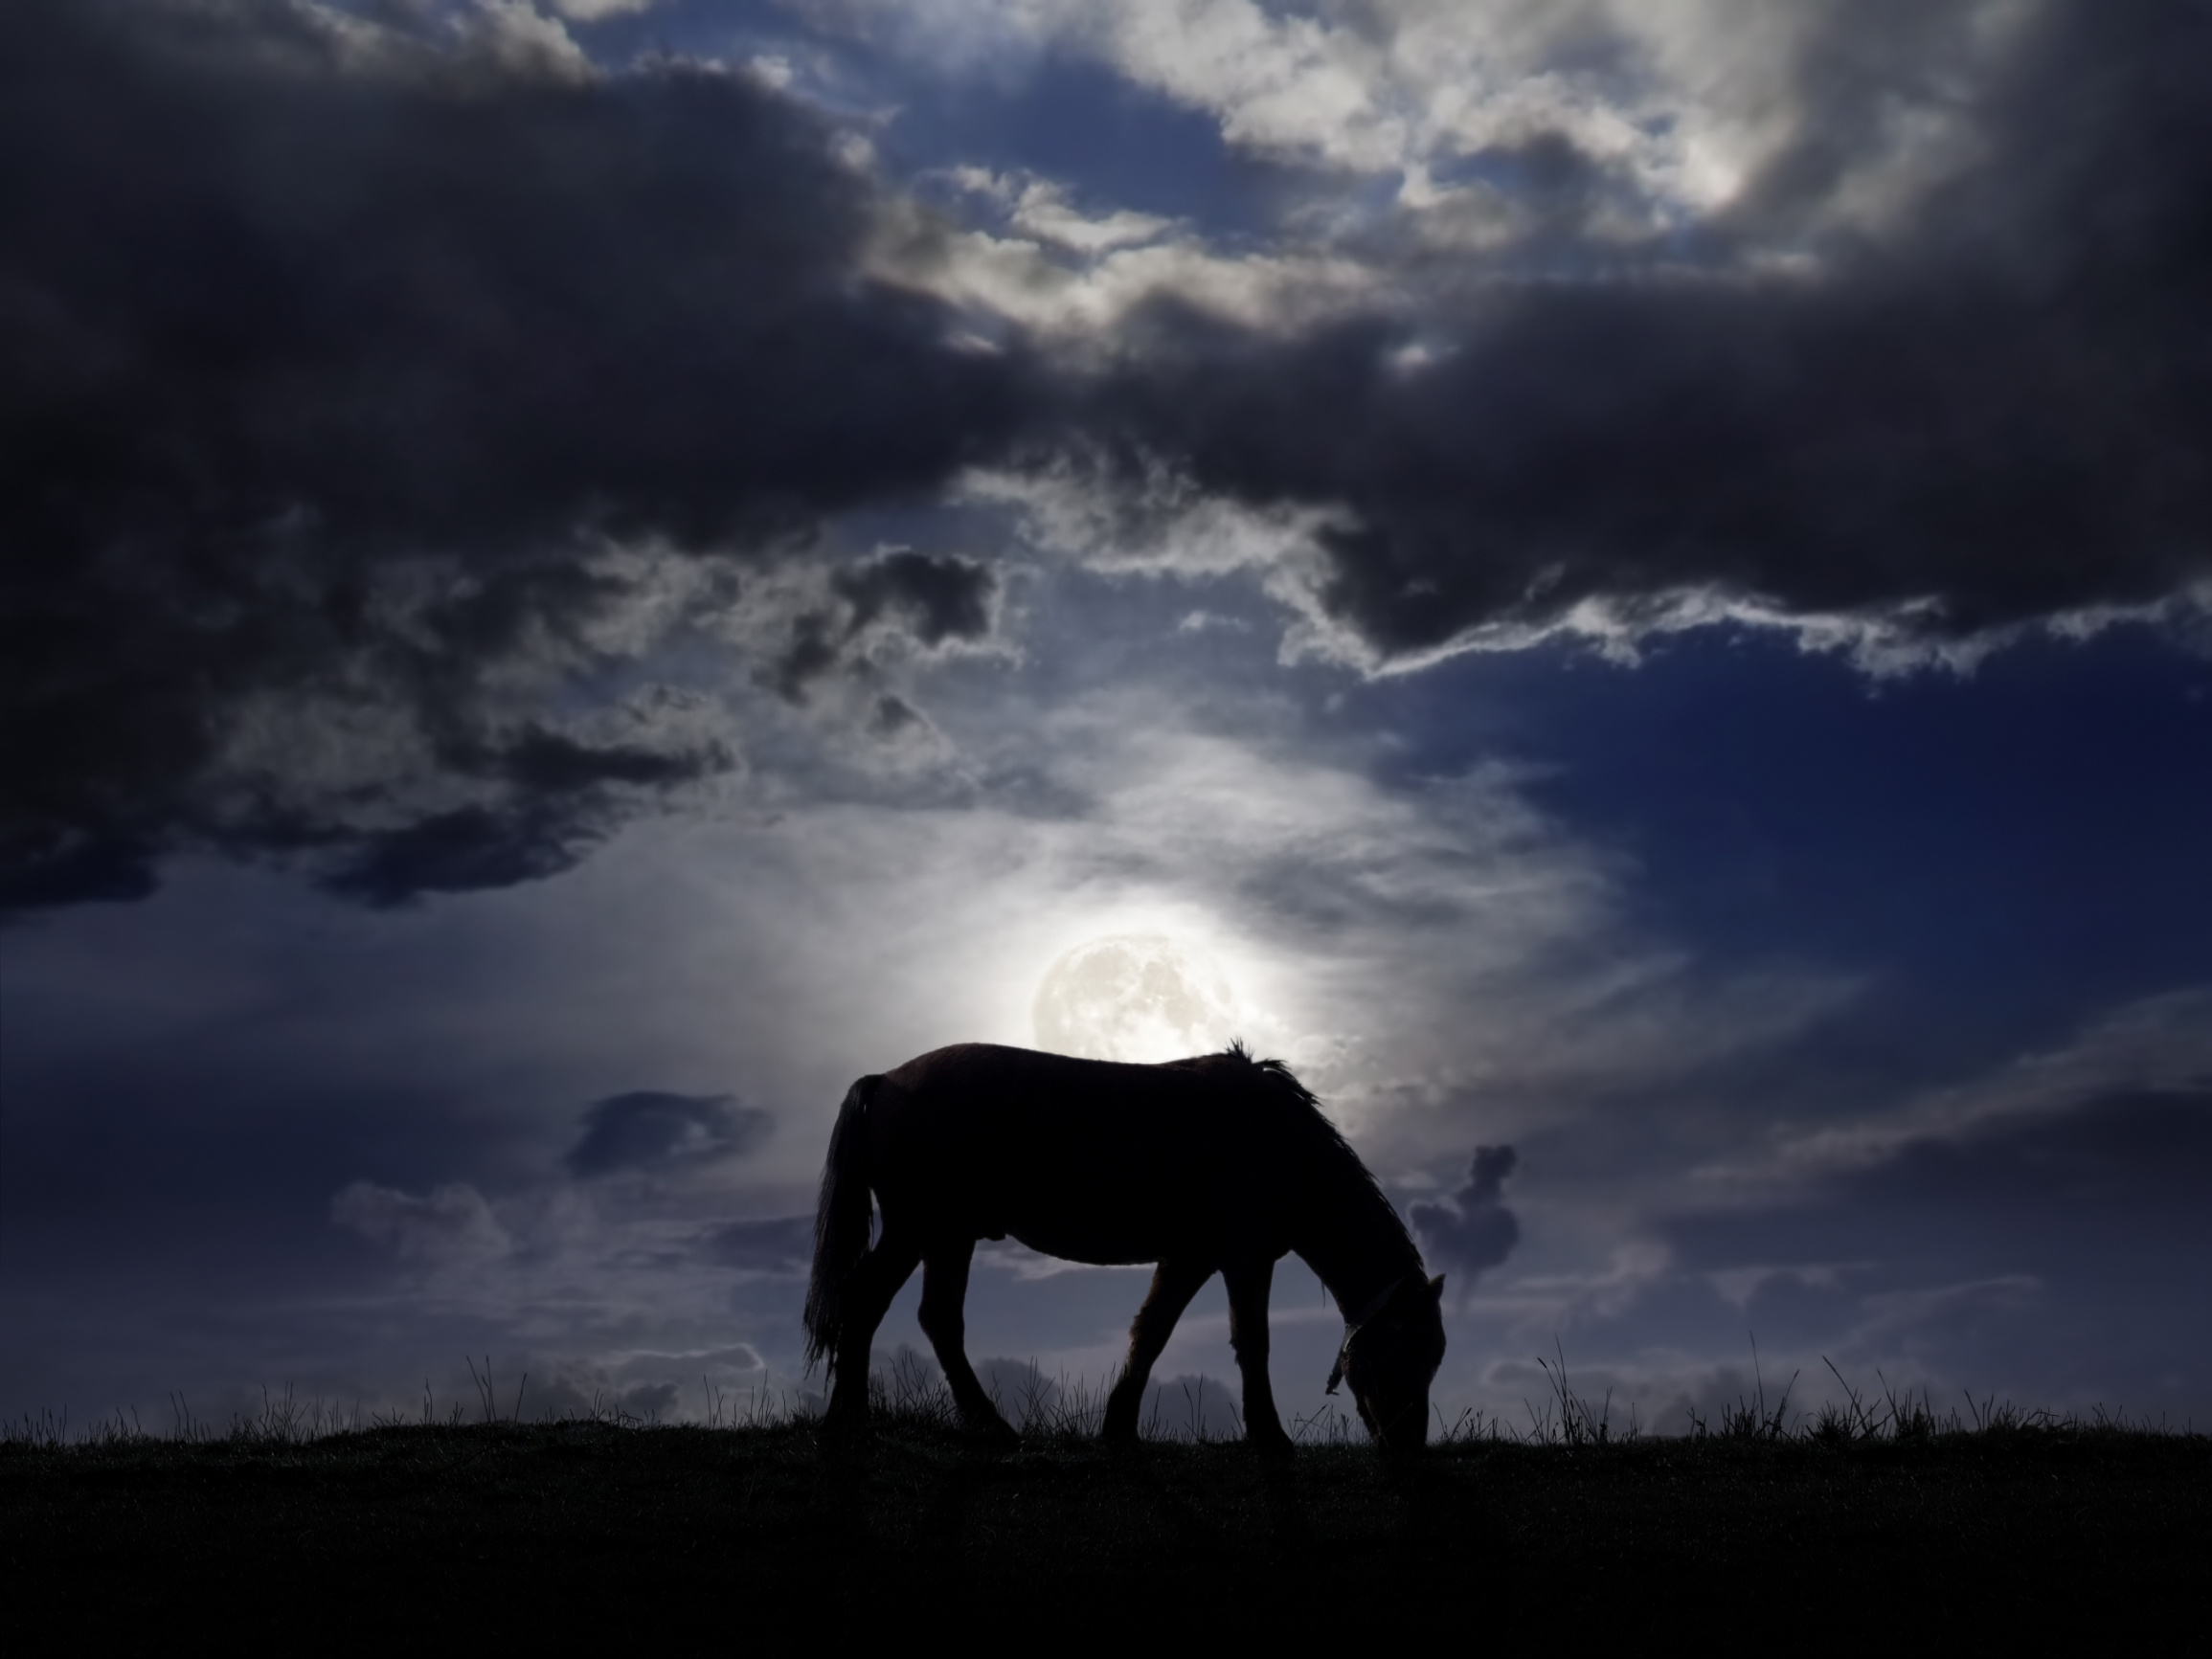Horse: (777, 986, 1534, 1528)
